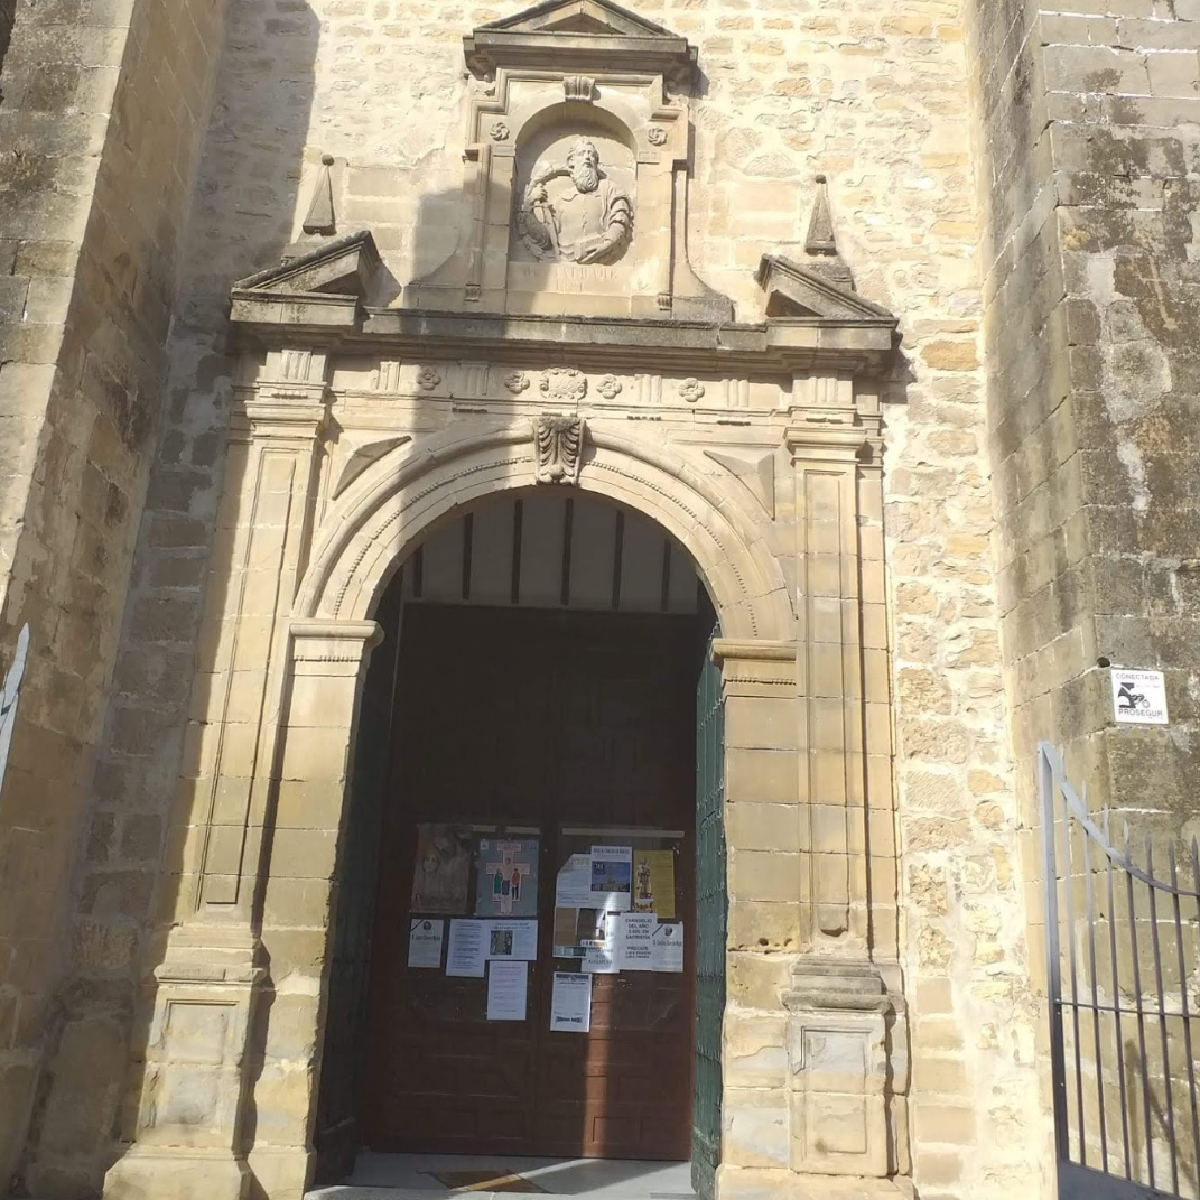arco-medio-punto: (335, 456, 754, 707)
fronton: (470, 0, 684, 59)
fronton-partido: (207, 225, 891, 356)
